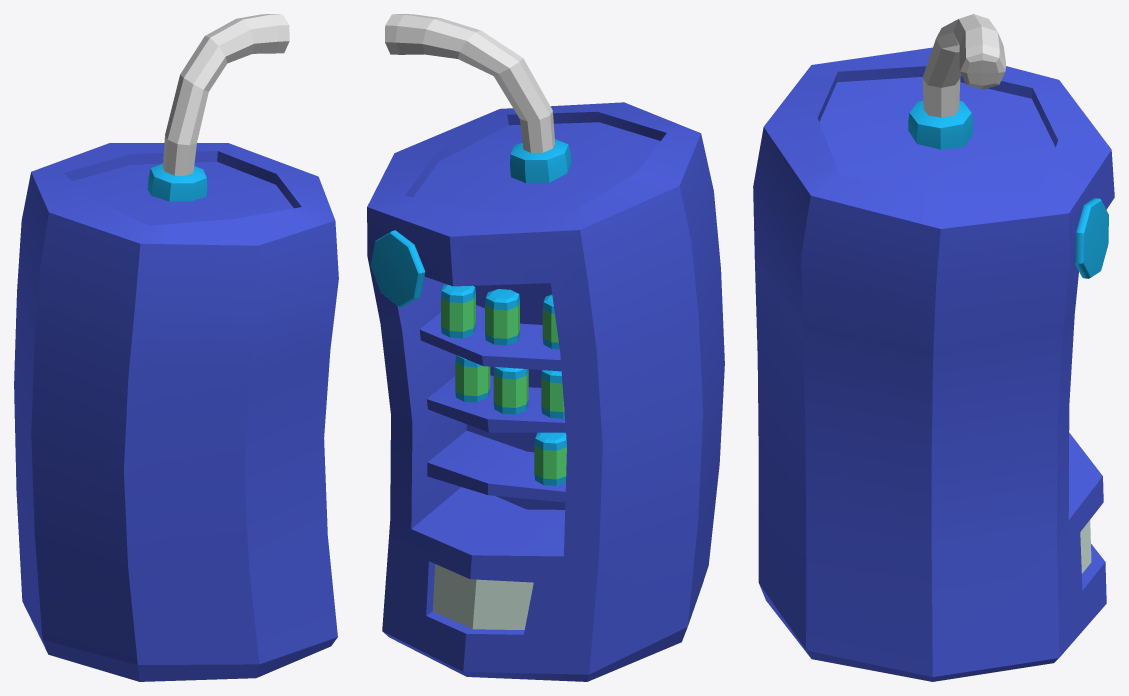
The model's file is vending-machine.fbx.
The picture shows the model from 3 angles, left to right: view 1: azimuth 30°, elevation 25°; view 2: azimuth 150°, elevation 25°; view 3: azimuth 270°, elevation 25°; orthographic projection. The views are drawn at different scales.
Parts seen in each view (by area): view 1: Vending Machine, Straw, Straw Connector; view 2: Vending Machine, Straw, Dollar Circle, Straw Connector, Can.001, Can, Can.006, Can.004, Can.003, Can.005, Can.002; view 3: Vending Machine, Straw, Straw Connector, Dollar Circle.
Part boxes in pixels (x1,y1,x2,y2): Vending Machine: (14,143,338,681); Straw: (163,14,289,175); Straw Connector: (147,163,207,201); Vending Machine: (367,102,724,681); Straw: (385,14,555,152); Dollar Circle: (370,230,425,307); Straw Connector: (510,139,571,183); Can.001: (485,289,519,345); Can: (441,284,475,338); Can.006: (534,432,566,485); Can.004: (493,367,528,414); Can.003: (455,355,490,402); Can.005: (541,370,564,418); Can.002: (542,294,559,349); Vending Machine: (753,47,1114,681); Straw: (922,14,1005,117); Straw Connector: (908,100,972,149); Dollar Circle: (1074,198,1108,278).
Size of the model in its own units: 347 by 657 by 338.
